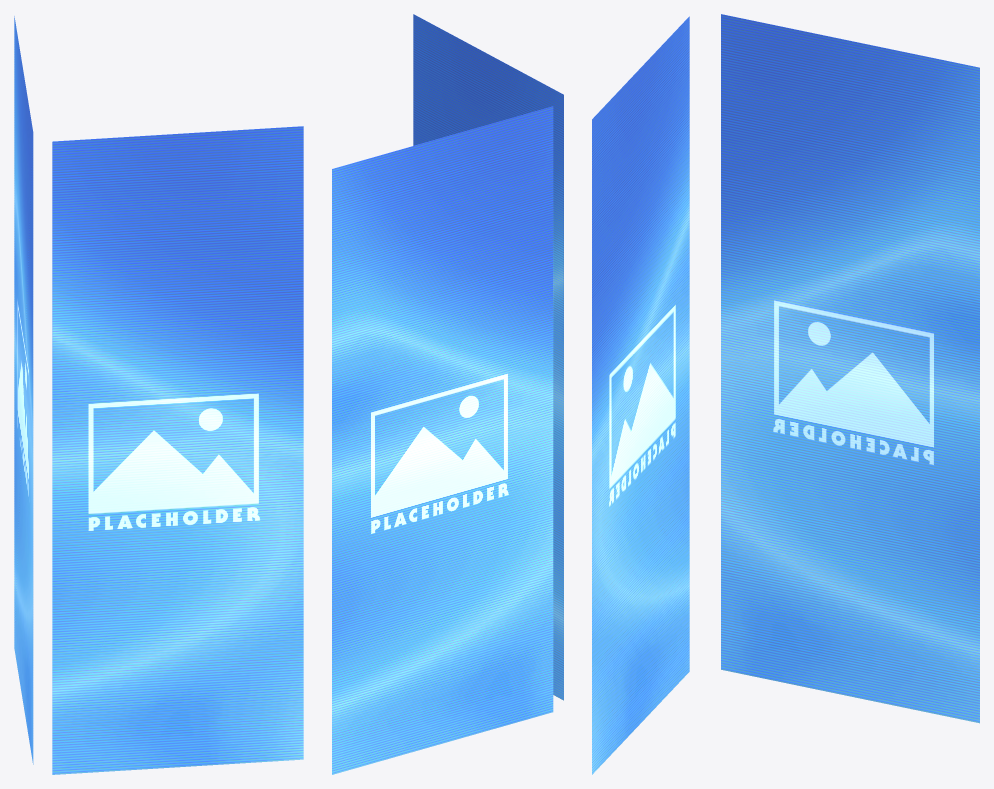
The model's file is rightBuildingCornerScreens.glb.
3 renders of one model, left to right at view 1: azimuth 30°, elevation 25°; view 2: azimuth 150°, elevation 25°; view 3: azimuth 270°, elevation 25°, orthographic. The views are drawn at different scales.
Parts seen in each view (by area): view 1: rightBuildingCornerSigns; view 2: rightBuildingCornerSigns; view 3: rightBuildingCornerSigns.
Part boxes in pixels (bbox=[...]): rightBuildingCornerSigns: bbox=[14, 16, 303, 774]; rightBuildingCornerSigns: bbox=[332, 14, 563, 774]; rightBuildingCornerSigns: bbox=[592, 14, 979, 774].
Bounding box in the file's own units: 2.02 × 5.87 × 3.15.
1 material, 1 textured.
